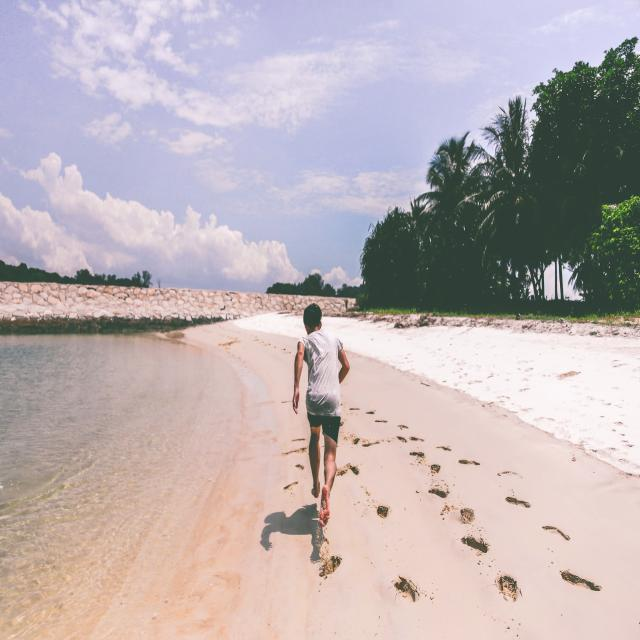adult: (291, 304, 350, 529)
